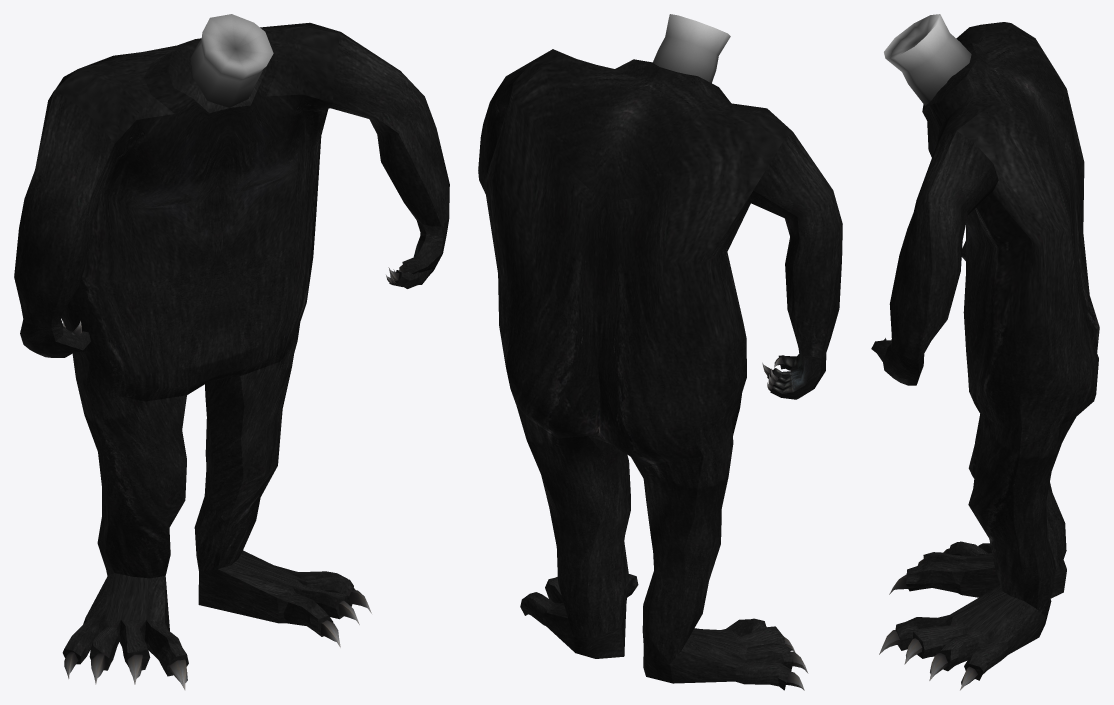
File: GorillaCostume.fbx
The picture shows the model from 3 angles, left to right: view 1: azimuth 30°, elevation 25°; view 2: azimuth 150°, elevation 25°; view 3: azimuth 270°, elevation 25°; orthographic projection. The views are drawn at different scales.
Parts seen in each view (by area): view 1: Gorilla_Costume1; view 2: Gorilla_Costume1; view 3: Gorilla_Costume1.
Part boxes in pixels (x1,y1,x2,y2): Gorilla_Costume1: (14,14,449,690); Gorilla_Costume1: (478,14,842,690); Gorilla_Costume1: (871,14,1099,690).
Bounding box in the file's own units: 1.13 × 1.76 × 0.5999.
